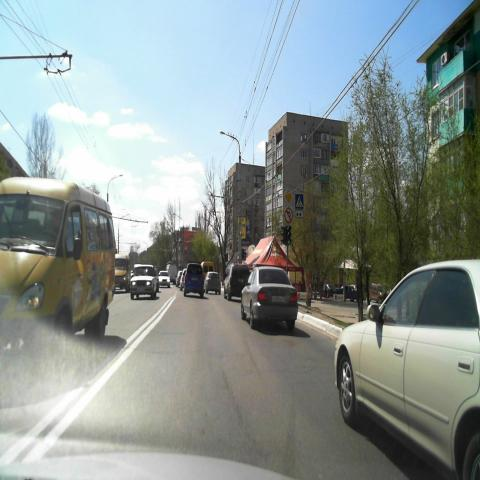3_18_2: (284, 207, 293, 223)
